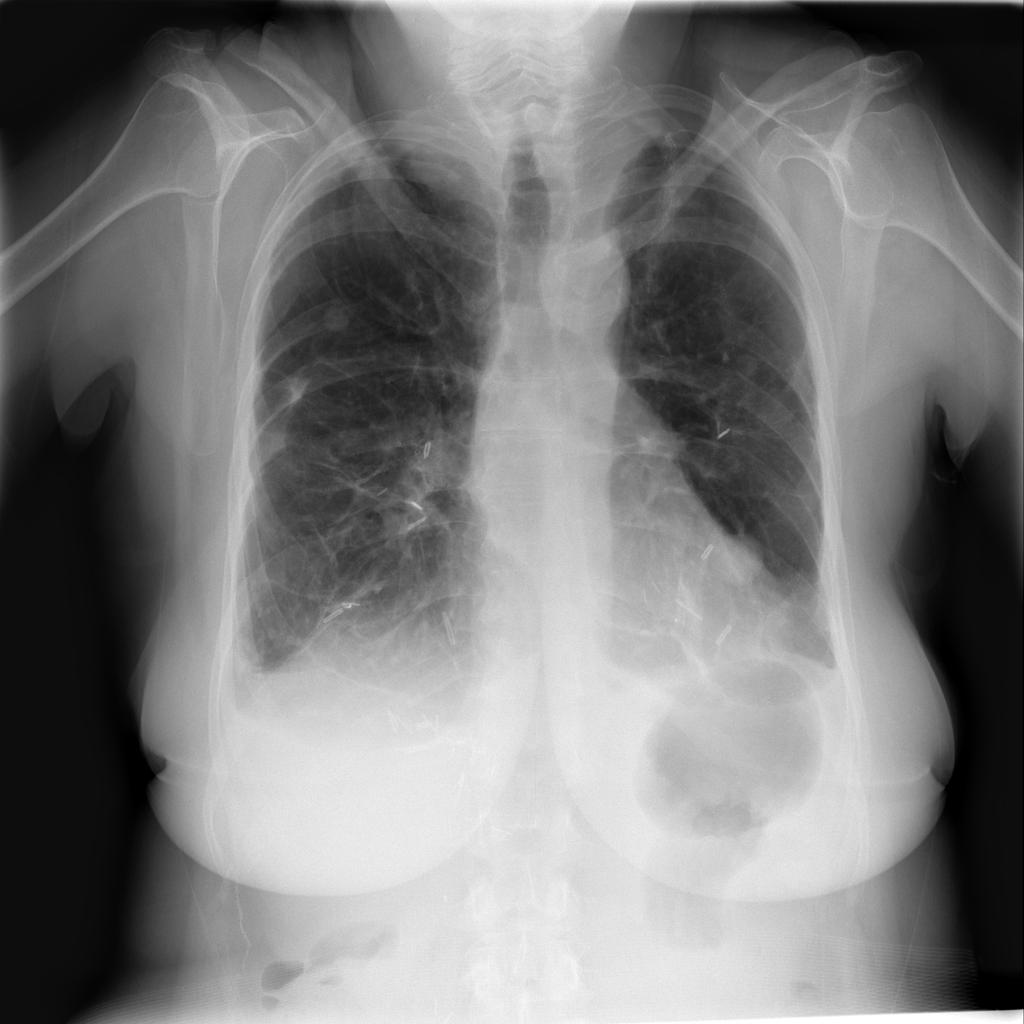nodule: (702, 519, 779, 598), (315, 287, 364, 342), (719, 337, 767, 392)
